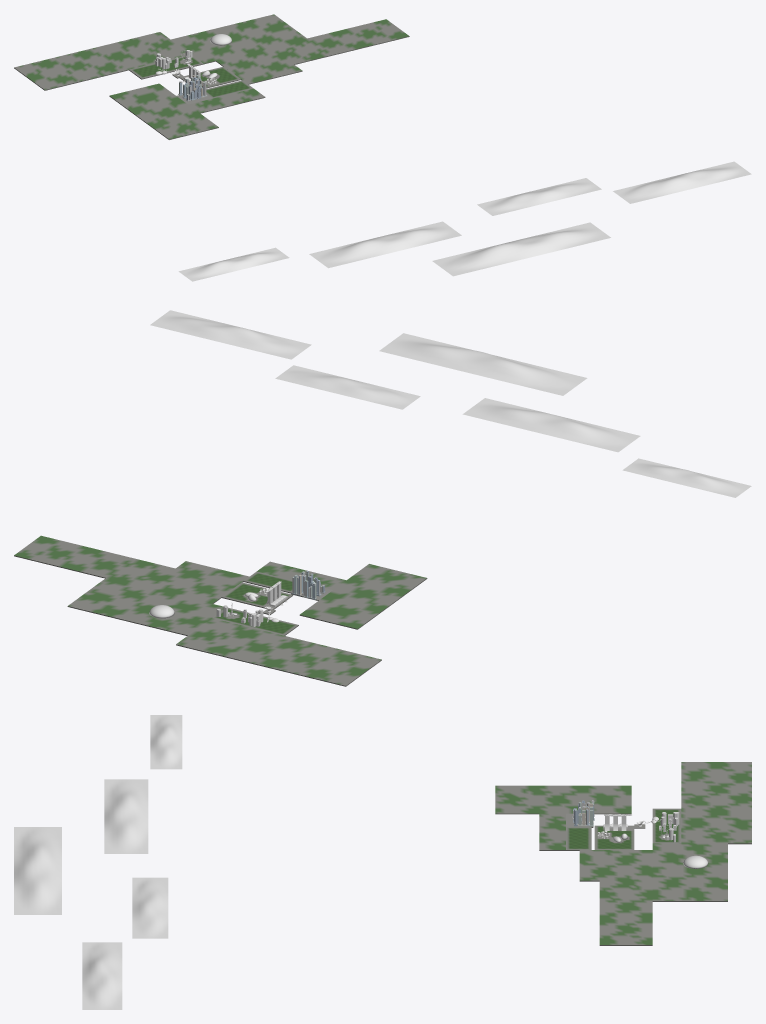
File: marina-bay.glb
The picture shows the model from 3 angles, top to bottom: view 1: azimuth 30°, elevation 25°; view 2: azimuth 150°, elevation 25°; view 3: azimuth 270°, elevation 25°; orthographic projection. The views are drawn at different scales.
Visible parts, largest first — view 1: ground_far, islands, ground, cbd; view 2: ground_far, islands, ground, cbd; view 3: ground_far, islands, ground, cbd.
Part boxes in pixels (x1,y1,x2,y2): ground_far: (14, 14, 409, 139); islands: (178, 161, 751, 281); ground: (129, 56, 253, 104); cbd: (178, 75, 207, 101); ground_far: (14, 535, 427, 686); islands: (150, 310, 751, 497); ground: (212, 571, 332, 635); cbd: (291, 571, 325, 599); ground_far: (495, 762, 751, 945); islands: (14, 715, 182, 1009); ground: (566, 808, 681, 850); cbd: (572, 800, 594, 826).
Size of the model in its own units: 870 by 30.87 by 920.
